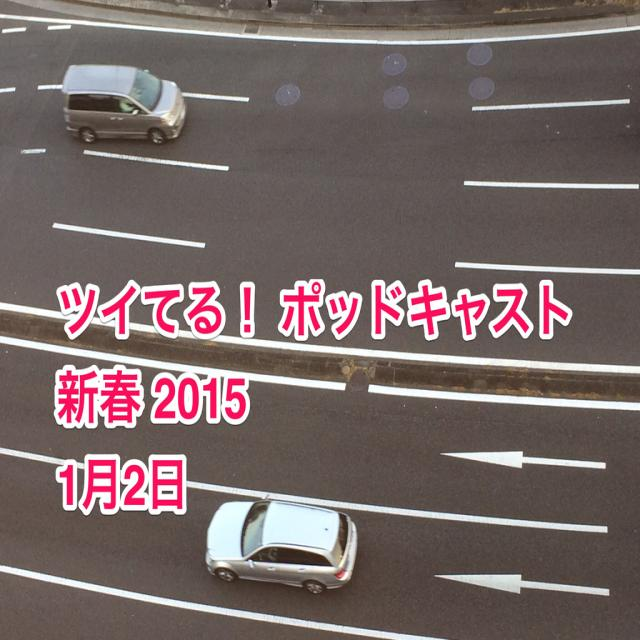car: (204, 491, 359, 593), (56, 57, 176, 143)
